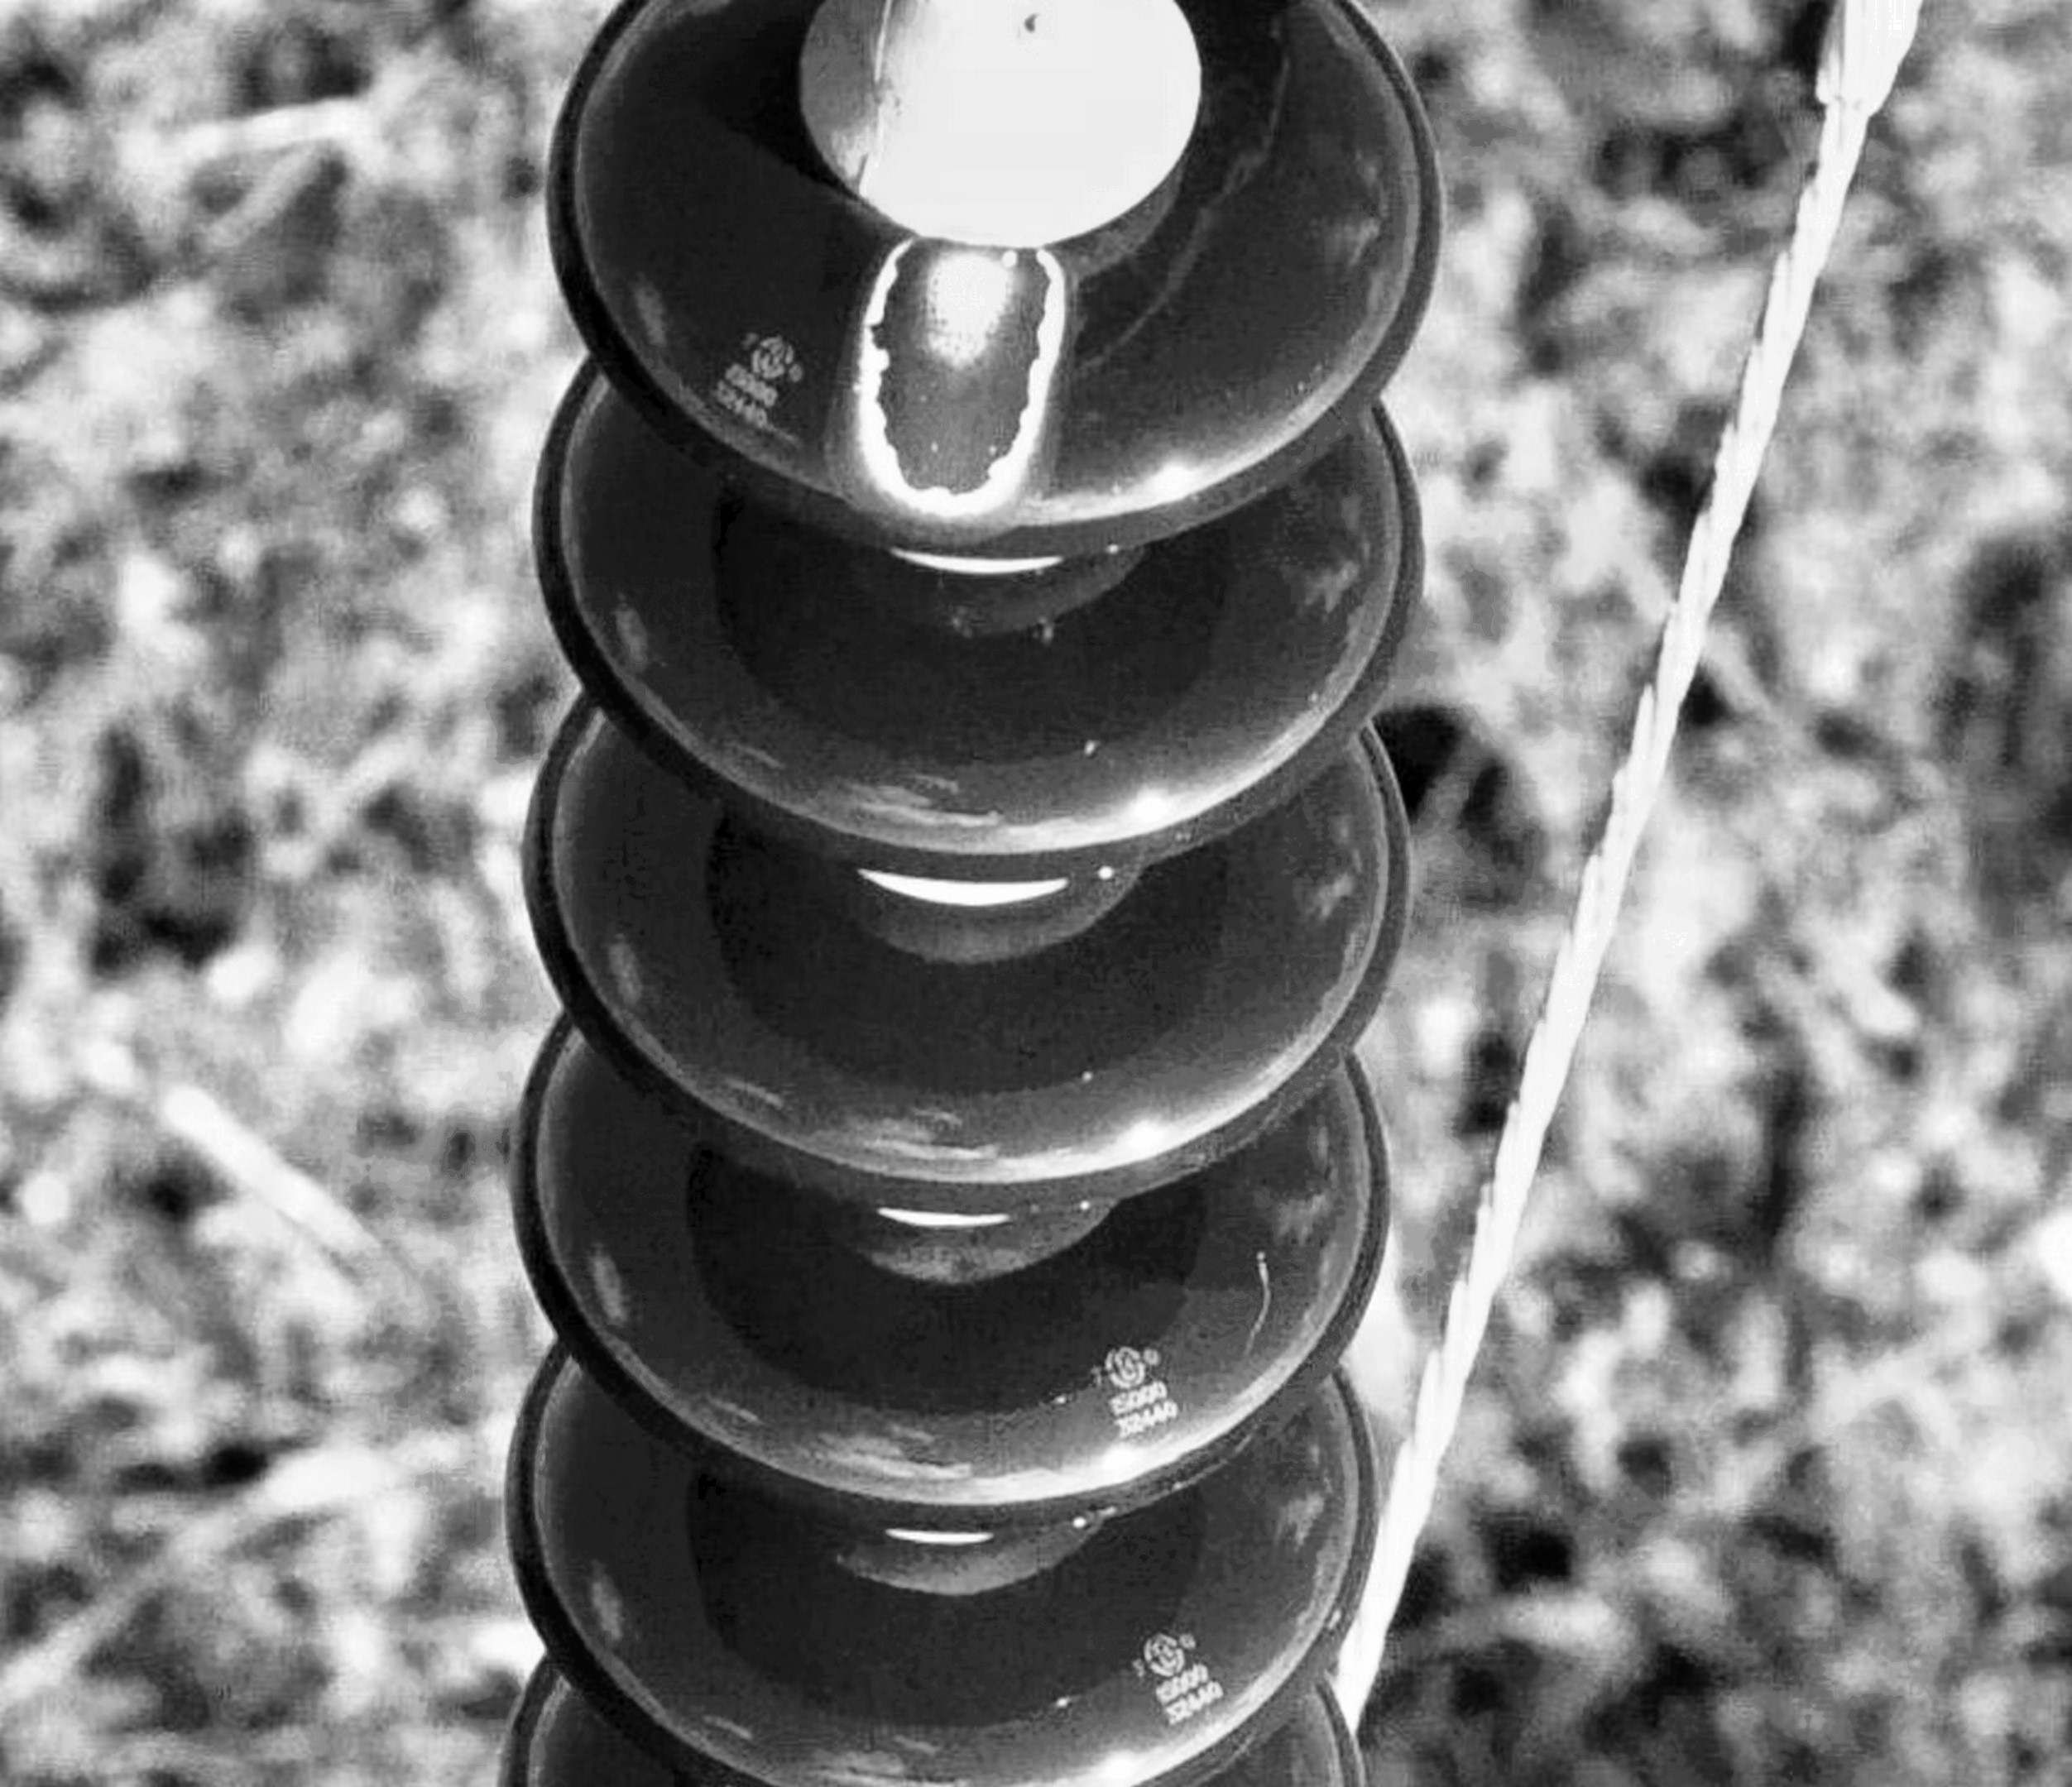Insulator flashover: (504, 0, 1482, 564)
